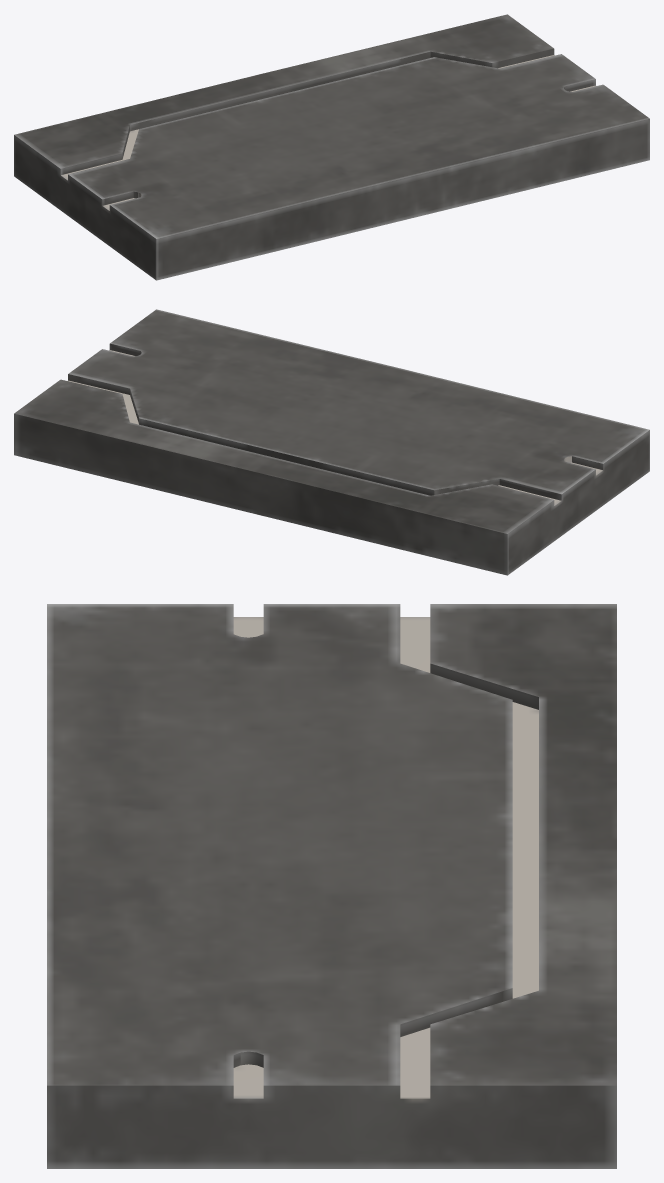
File: FUT0510040.fbx
The picture shows the model from 3 angles, top to bottom: view 1: azimuth 30°, elevation 25°; view 2: azimuth 150°, elevation 25°; view 3: azimuth 270°, elevation 25°; orthographic projection. The views are drawn at different scales.
Parts seen in each view (by area): view 1: smFUT0510040; view 2: smFUT0510040; view 3: smFUT0510040.
Boxes of the visible parts, left/top/right/bottom form: smFUT0510040: left=14, top=14, right=649, bottom=280; smFUT0510040: left=14, top=309, right=649, bottom=575; smFUT0510040: left=47, top=604, right=616, bottom=1168.
Size of the model in its own units: 168 by 13.68 by 83.96.
Materials: 1 (1 with a texture image).
